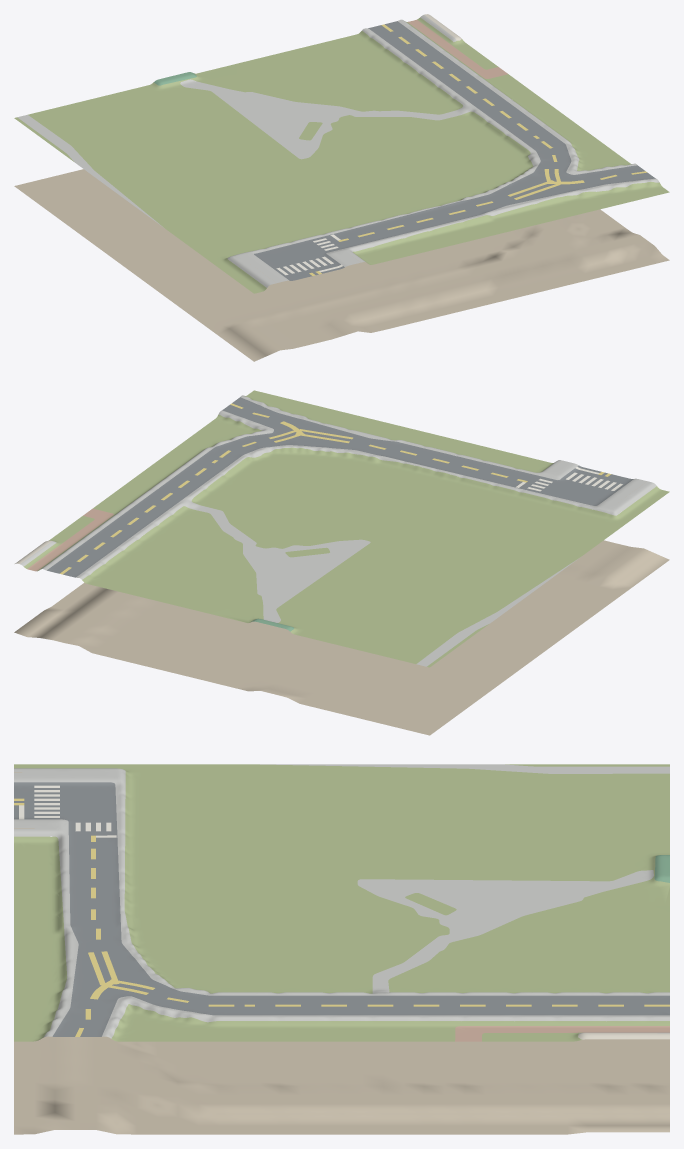
The picture shows the model from 3 angles, top to bottom: view 1: azimuth 30°, elevation 25°; view 2: azimuth 150°, elevation 25°; view 3: azimuth 270°, elevation 25°; orthographic projection. The views are drawn at different scales.
Parts seen in each view (by area): view 1: s_-11_1__grass, s_-11_1__soil, s_-11_1__stone_paving, s_-11_1__asphalt, s_-11_1__yellow_marking, s_-11_1__brick_paving, s_-11_1__white_marking; view 2: s_-11_1__grass, s_-11_1__soil, s_-11_1__stone_paving, s_-11_1__asphalt, s_-11_1__yellow_marking, s_-11_1__brick_paving, s_-11_1__white_marking; view 3: s_-11_1__grass, s_-11_1__soil, s_-11_1__asphalt, s_-11_1__stone_paving, s_-11_1__yellow_marking, s_-11_1__brick_paving, s_-11_1__white_marking, s_-11_1__paving.
Boxes of the visible parts, box(x1,y1,x2,y2) form: s_-11_1__grass: box(14, 17, 669, 293); s_-11_1__soil: box(14, 169, 669, 361); s_-11_1__stone_paving: box(17, 15, 659, 287); s_-11_1__asphalt: box(254, 21, 655, 280); s_-11_1__yellow_marking: box(309, 24, 647, 275); s_-11_1__brick_paving: box(408, 19, 507, 78); s_-11_1__white_marking: box(276, 234, 342, 275); s_-11_1__grass: box(24, 390, 669, 667); s_-11_1__soil: box(14, 540, 669, 735); s_-11_1__stone_paving: box(20, 395, 656, 666); s_-11_1__asphalt: box(47, 397, 633, 577); s_-11_1__yellow_marking: box(60, 403, 611, 574); s_-11_1__brick_paving: box(27, 508, 113, 571); s_-11_1__white_marking: box(516, 467, 622, 491); s_-11_1__grass: box(14, 764, 669, 1041); s_-11_1__soil: box(14, 1036, 669, 1134); s_-11_1__asphalt: box(14, 782, 669, 1036); s_-11_1__stone_paving: box(14, 764, 669, 1038); s_-11_1__yellow_marking: box(14, 798, 669, 1036); s_-11_1__brick_paving: box(455, 1026, 669, 1041); s_-11_1__white_marking: box(19, 785, 116, 837); s_-11_1__paving: box(578, 1033, 669, 1039).
Size of the model in its own units: 128 by 21.53 by 128.
